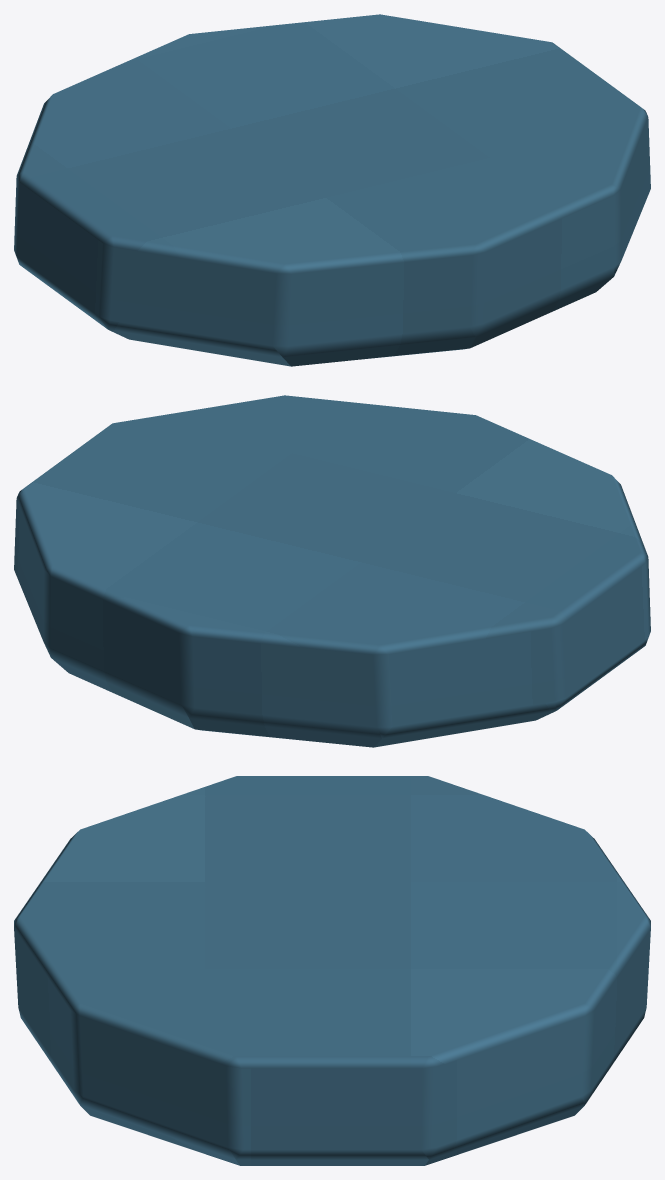
The model's file is Neck-lip.glb.
3 renders of one model, top to bottom at view 1: azimuth 30°, elevation 25°; view 2: azimuth 150°, elevation 25°; view 3: azimuth 270°, elevation 25°, orthographic. The views are drawn at different scales.
Parts seen in each view (by area): view 1: Neck-lip; view 2: Neck-lip; view 3: Neck-lip.
Boxes of the visible parts, x1,y1,x2,y2 form: Neck-lip: (14,14,650,366); Neck-lip: (14,395,650,747); Neck-lip: (14,776,650,1165).
Bounding box in the file's own units: 0.1311 × 0.026 × 0.1209.
Materials: 1 (1 with a texture image).
